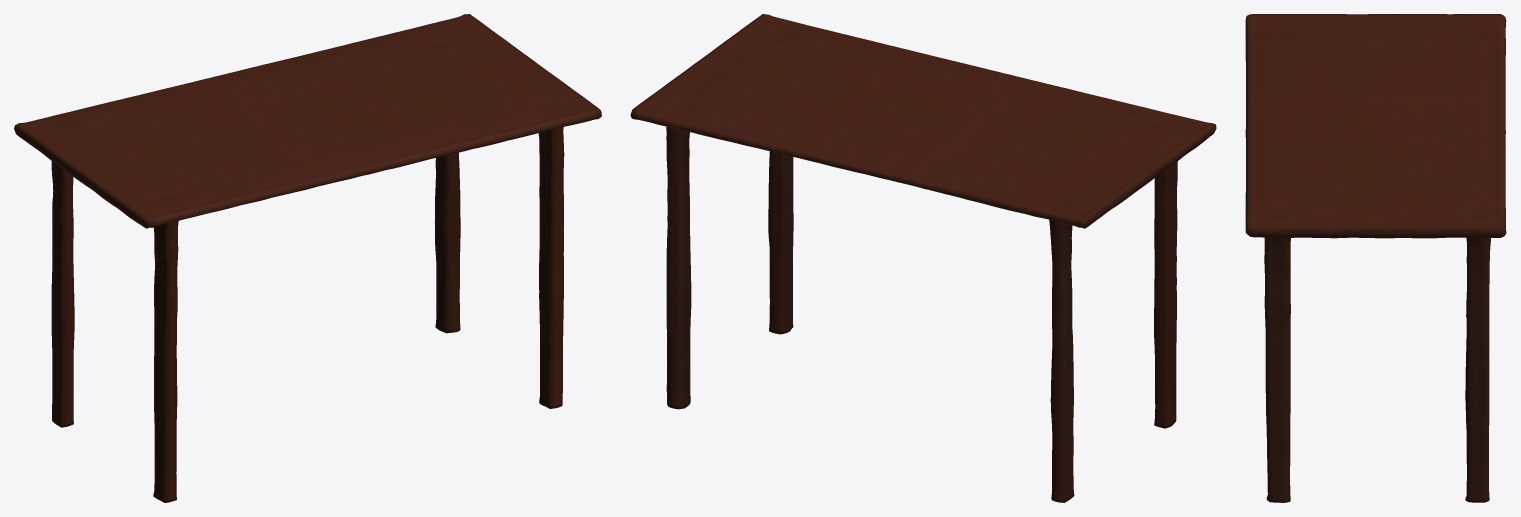
Rendered from A brown wooden table with a rectangular top, but t.glb.
3 views of the same model, side by side, from view 1: azimuth 30°, elevation 25°; view 2: azimuth 150°, elevation 25°; view 3: azimuth 270°, elevation 25° (orthographic). The views are drawn at different scales.
Parts seen in each view (by area): view 1: A brown wooden table with a rectangular top, but t; view 2: A brown wooden table with a rectangular top, but t; view 3: A brown wooden table with a rectangular top, but t.
Part boxes in pixels (left/top/right/bottom): A brown wooden table with a rectangular top, but t: left=14, top=14, right=601, bottom=502; A brown wooden table with a rectangular top, but t: left=630, top=14, right=1216, bottom=502; A brown wooden table with a rectangular top, but t: left=1245, top=14, right=1506, bottom=502.
Bounding box in the file's own units: 1.98 × 1.25 × 1.02.
